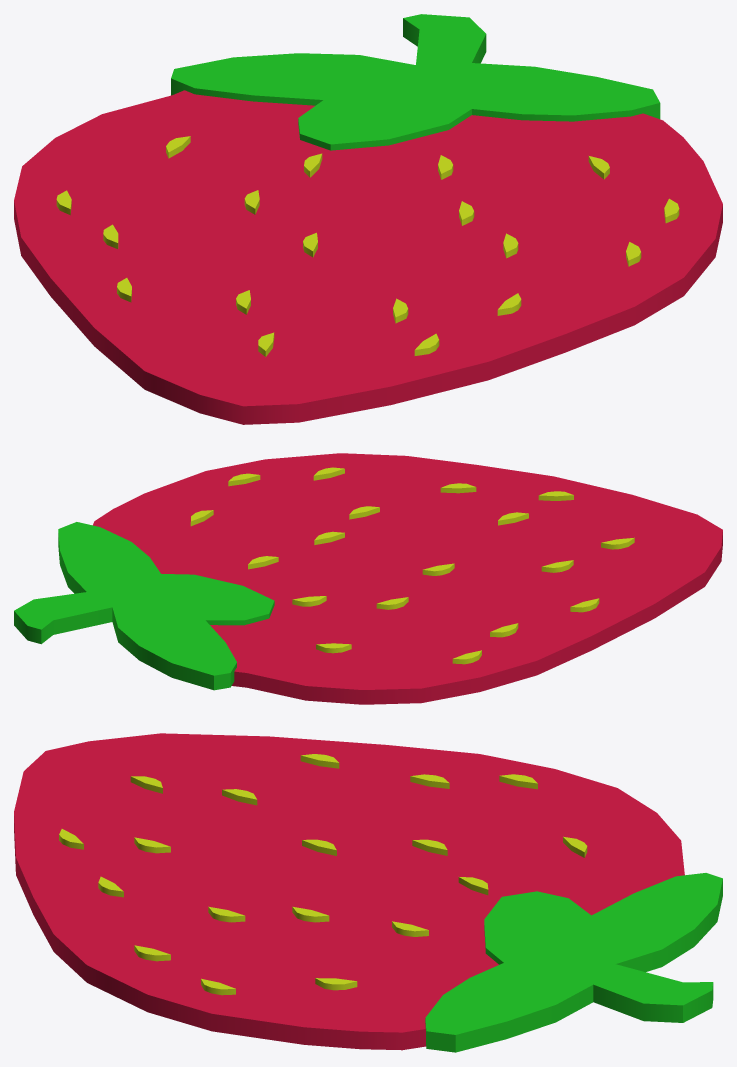
The model's file is strawberry.FBX.
The picture shows the model from 3 angles, top to bottom: view 1: azimuth 30°, elevation 25°; view 2: azimuth 150°, elevation 25°; view 3: azimuth 270°, elevation 25°; orthographic projection. The views are drawn at different scales.
Visible parts, largest first — view 1: Line001, Line002; view 2: Line001, Line002; view 3: Line001, Line002.
Part boxes in pixels (box(x1,y1,x2,y2)): Line001: box(14, 90, 722, 424); Line002: box(171, 14, 660, 150); Line001: box(93, 453, 722, 704); Line002: box(14, 522, 274, 690); Line001: box(14, 733, 684, 1050); Line002: box(425, 873, 722, 1052).
Bounding box in the file's own units: 37.44 × 1.33 × 36.48.
